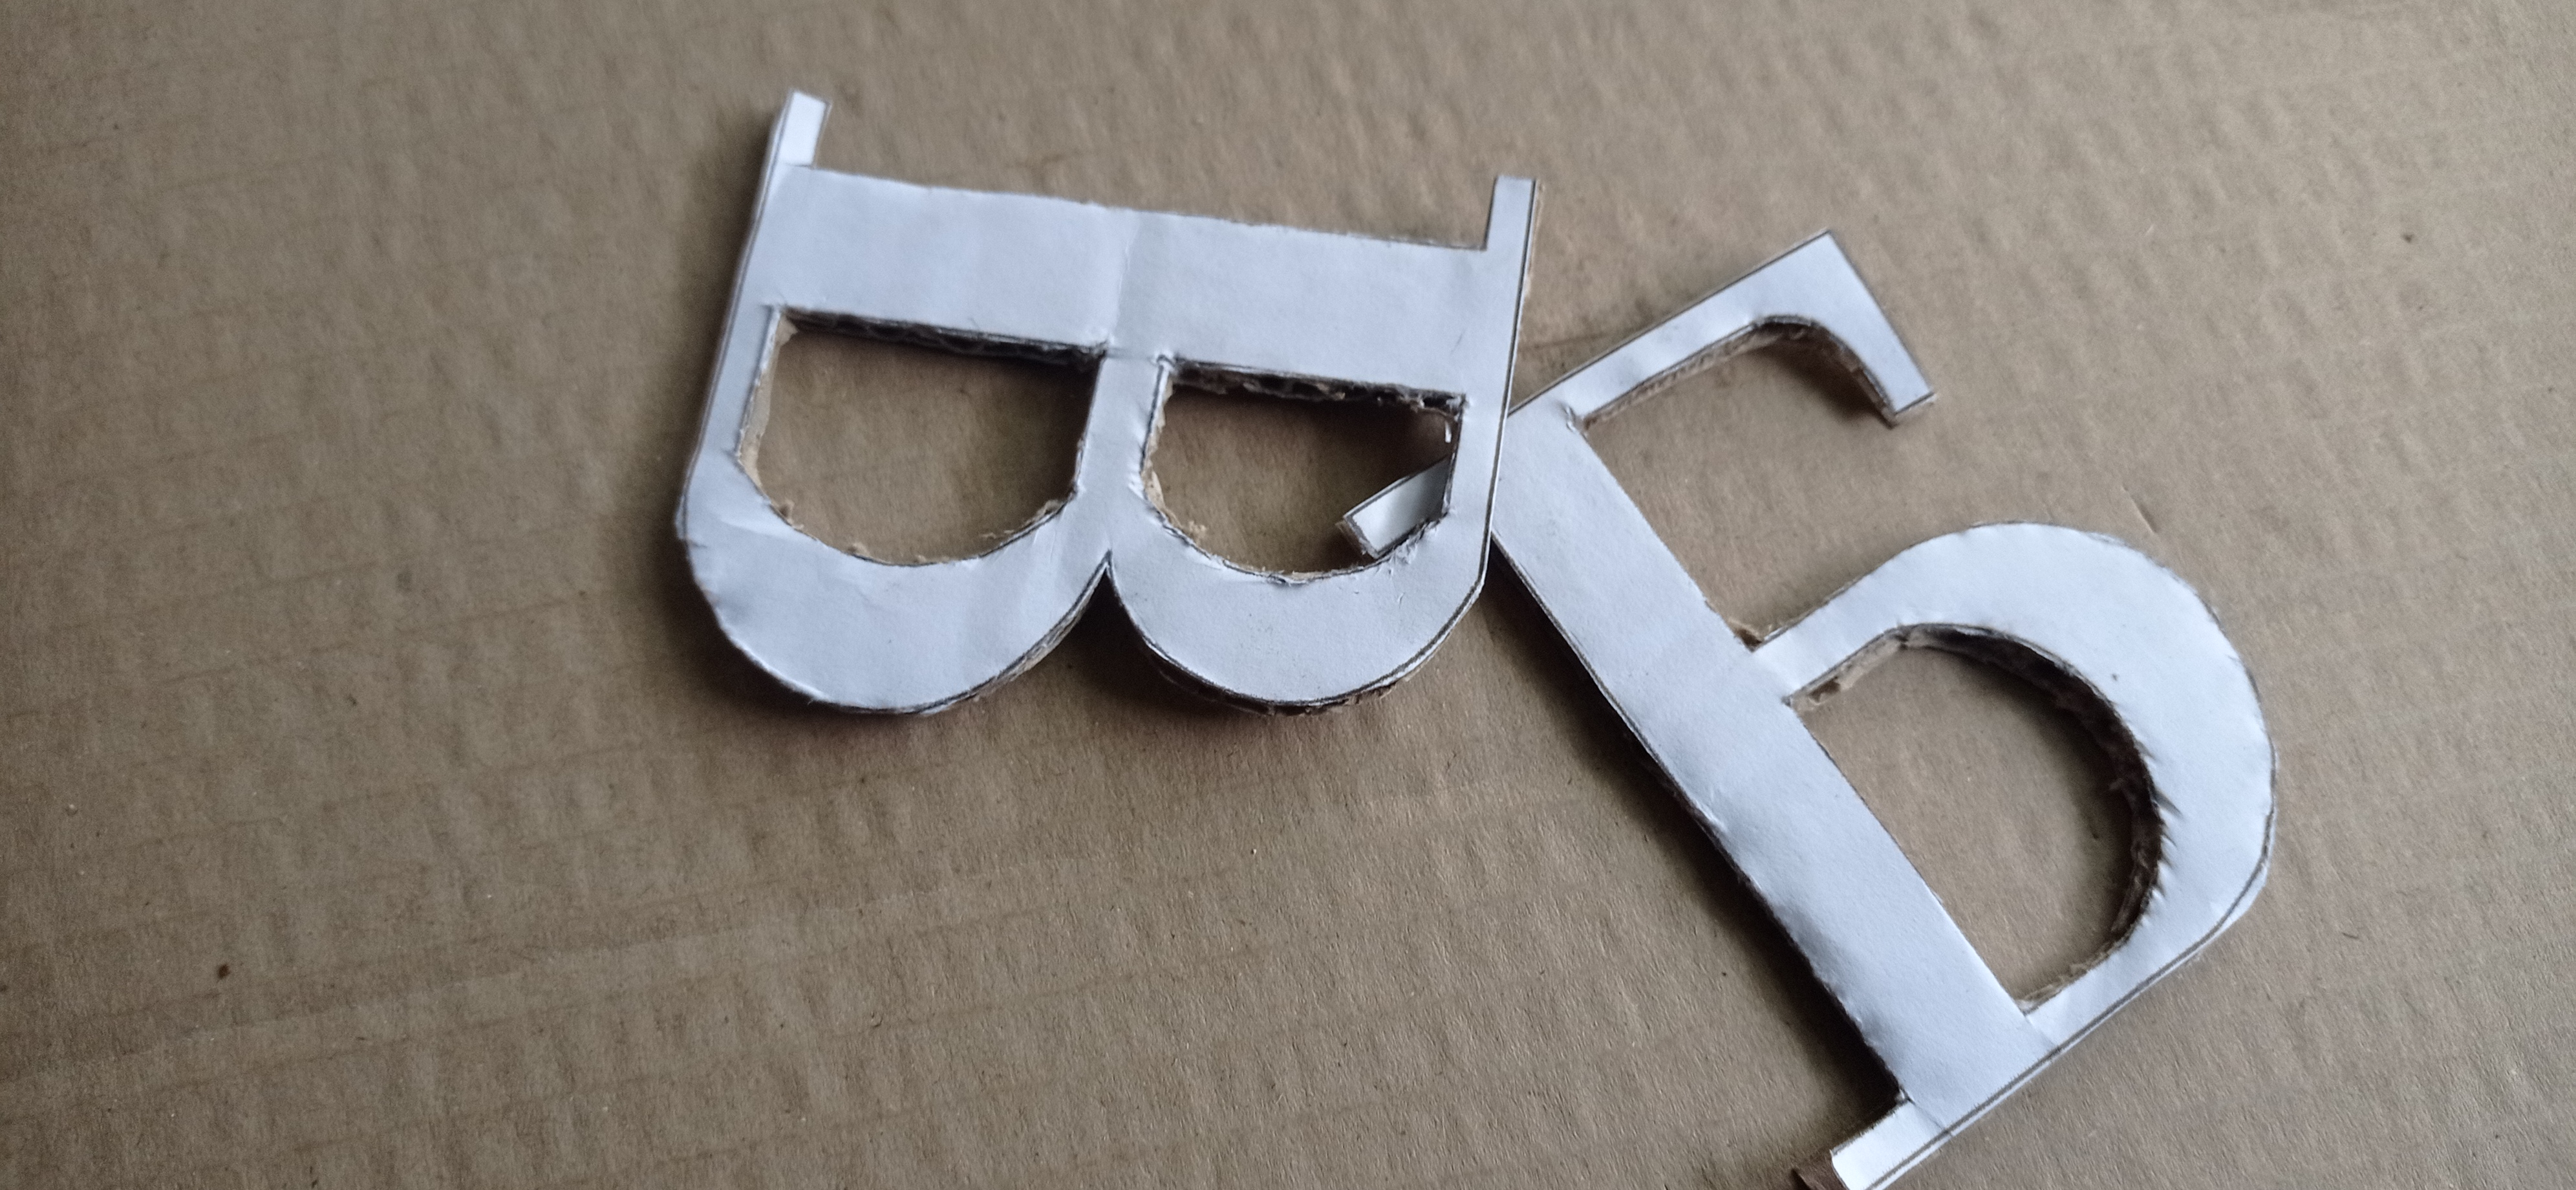b: (1339, 227, 2274, 1190)
v: (674, 89, 1539, 722)
